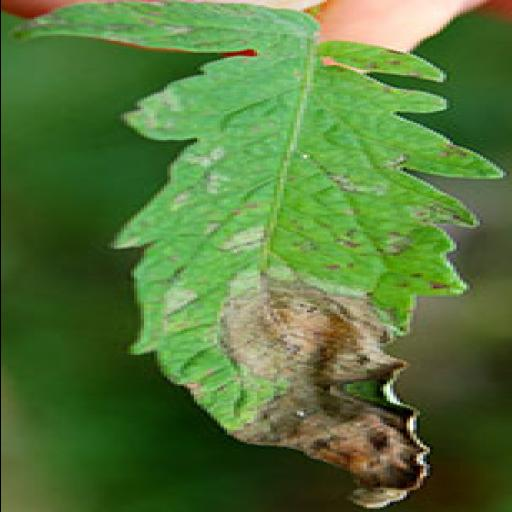disease_tomato: (10, 0, 502, 508)
